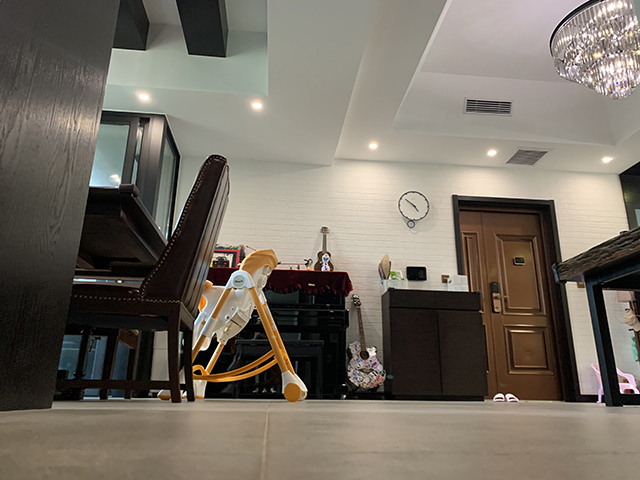cabinet: (380, 287, 490, 401)
slippers: (506, 390, 517, 404), (493, 392, 507, 402)
stool: (55, 153, 230, 404), (231, 337, 326, 400), (590, 360, 640, 406)
table: (551, 224, 640, 410)
